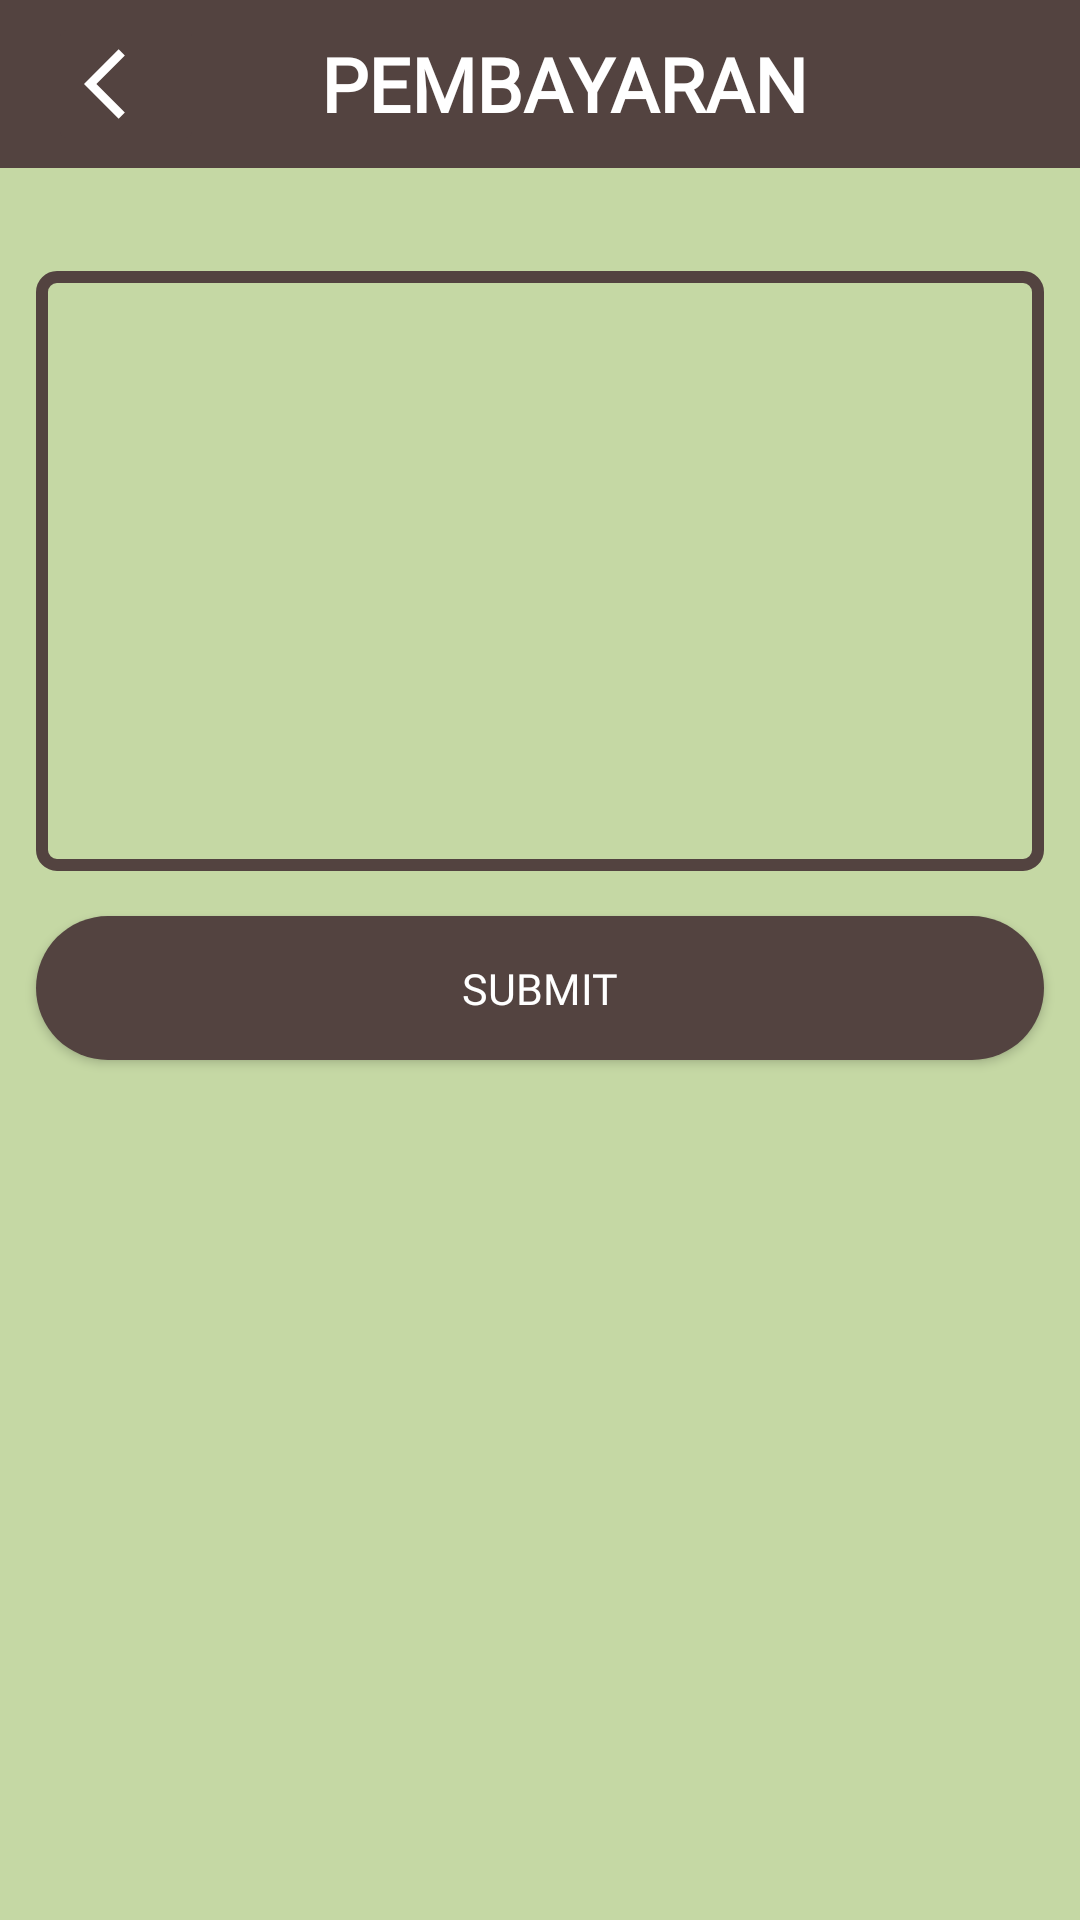

Icon bounding boxes for this 1080 × 1920 phone screenshot, format (x1, y1, x2, y2):
back: (84, 49, 125, 119)
